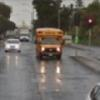buses: (37, 28, 63, 57)
